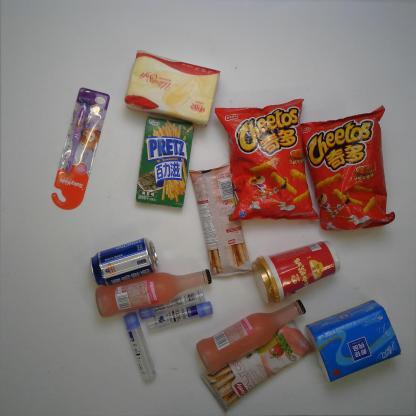Alcohol: (197, 298, 306, 368), (95, 267, 212, 316), (89, 238, 158, 288)
Dessert: (201, 318, 318, 412), (190, 164, 252, 281), (136, 114, 193, 207)
Instant Drink: (254, 238, 343, 306)
Personal Hygiene: (53, 87, 110, 208)
Puffed Food: (298, 105, 394, 231), (214, 101, 315, 220)
Stationery: (122, 310, 156, 384), (140, 290, 204, 321), (147, 302, 213, 331)
Tissue: (305, 299, 400, 385), (124, 50, 222, 127)
